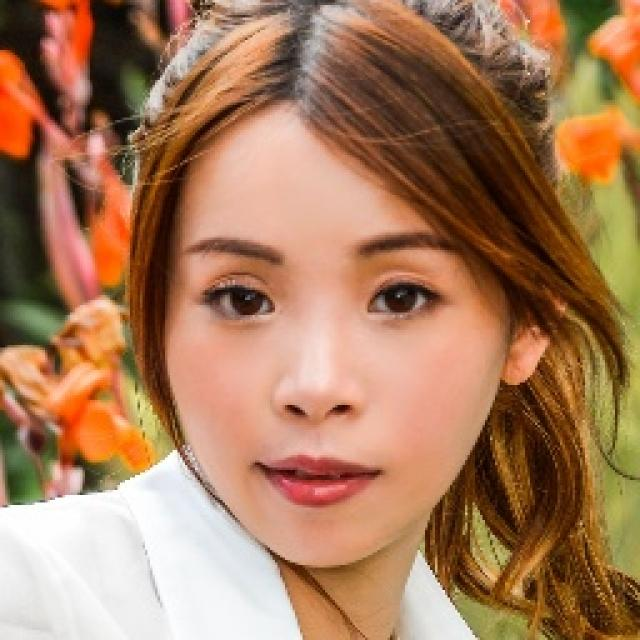earlobe: (498, 336, 536, 386)
eye: (203, 280, 273, 320), (367, 281, 435, 317)
nose: (268, 396, 366, 458)
